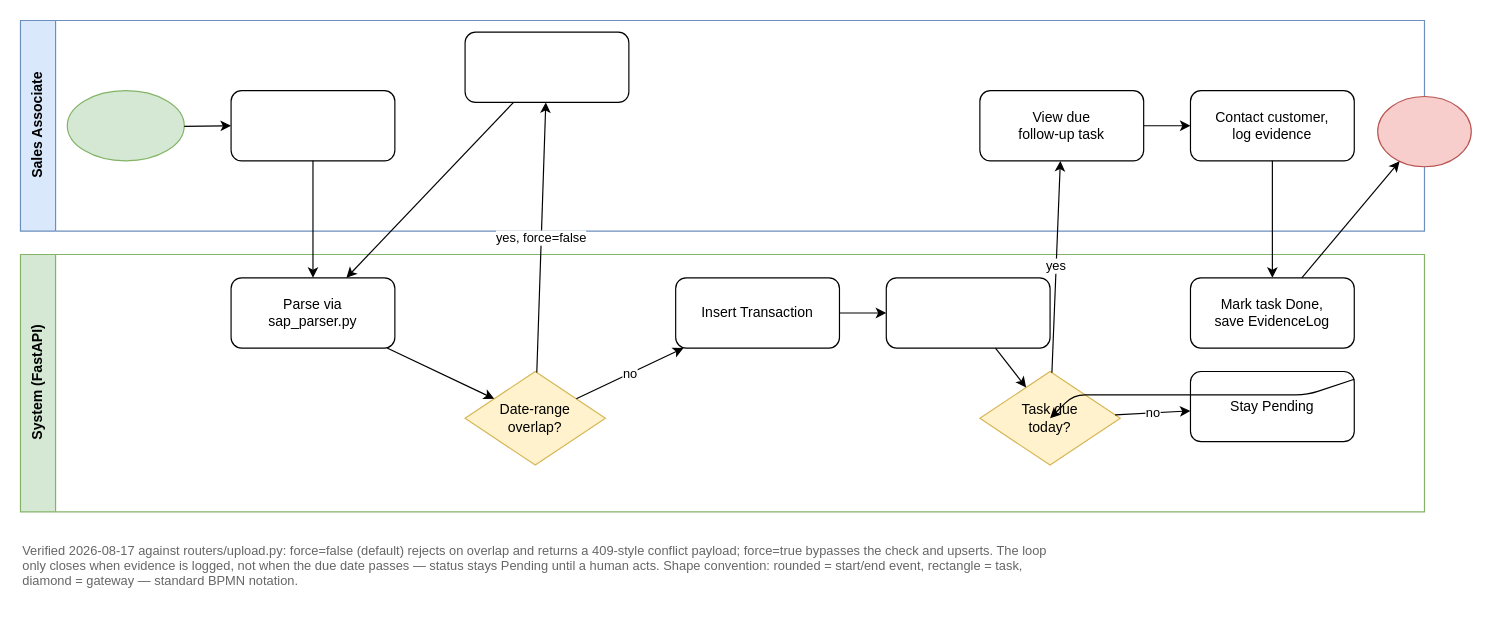
Image size: 1492x626. Some labels were removed from this diagram. Each missing label, with the box of its shape:
Create 2D / 2W / 2M FollowUpTasks: (885, 277, 1050, 348)
Cycle closed: (1377, 95, 1471, 167)
Resolve conflict or force upsert: (464, 31, 629, 102)
Select file: (230, 90, 395, 161)
Upload SAP export: (66, 90, 184, 161)
